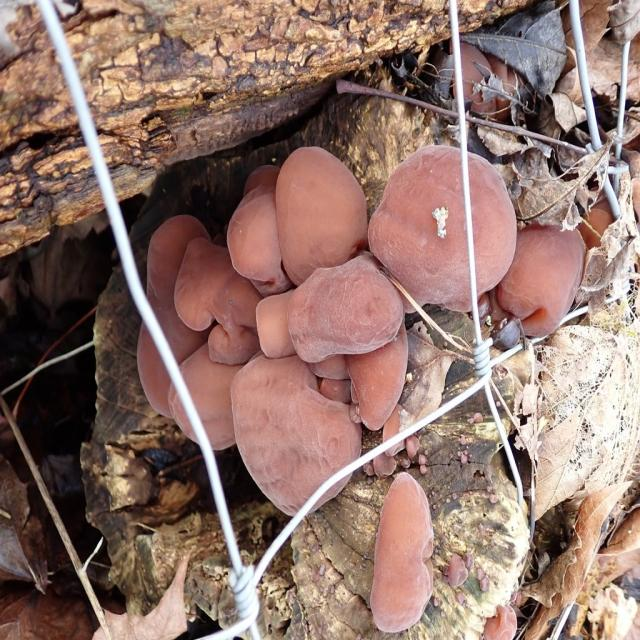Fase Muda: (444, 544, 470, 596), (484, 601, 516, 640)
Matang: (366, 144, 519, 312), (230, 352, 366, 522), (135, 207, 235, 438), (172, 231, 288, 367), (271, 142, 371, 292), (165, 327, 262, 462), (487, 218, 590, 345), (290, 253, 406, 365), (225, 156, 303, 299), (367, 473, 432, 635), (343, 312, 408, 432)
